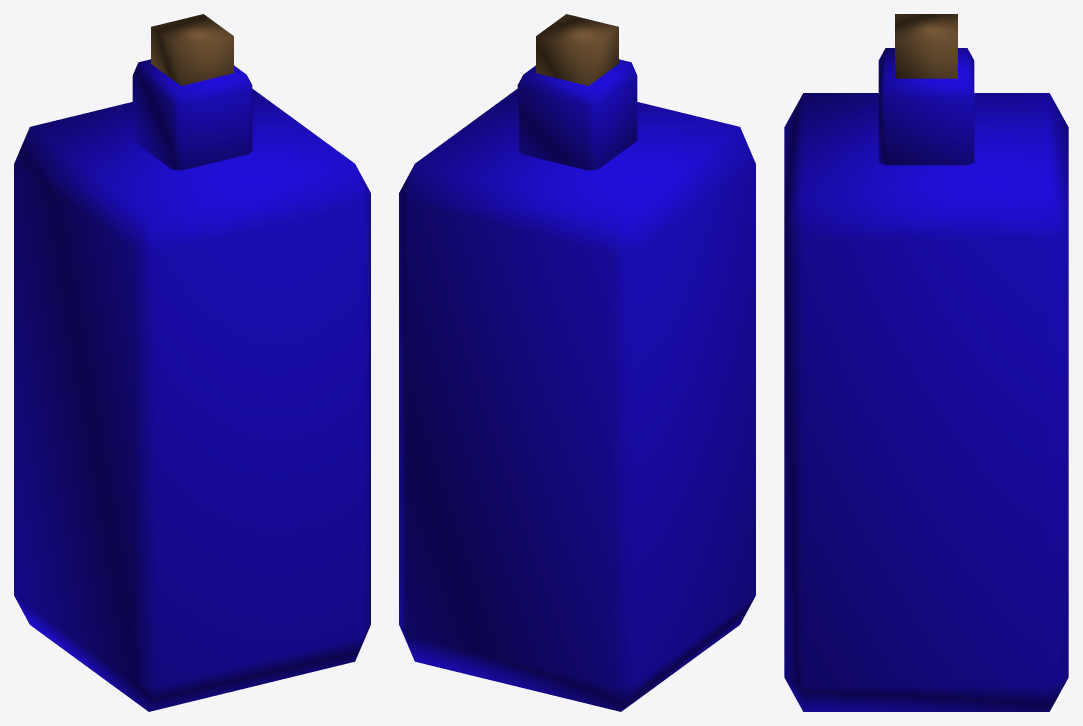
File: BLUE RECTANGLE POTION.glb
3 views of the same model, side by side, from view 1: azimuth 30°, elevation 25°; view 2: azimuth 150°, elevation 25°; view 3: azimuth 270°, elevation 25° (orthographic). The views are drawn at different scales.
Parts seen in each view (by area): view 1: Cube; view 2: Cube; view 3: Cube.
Boxes of the visible parts, x1,y1,x2,y2 form: Cube: (14,14,370,711); Cube: (399,14,755,711); Cube: (784,14,1068,711).
Size of the model in its own units: 2 by 4.91 by 2.
